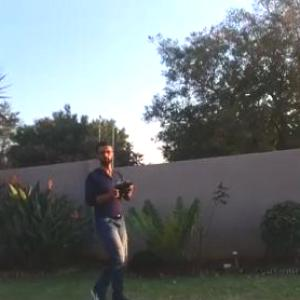follow: (80, 134, 143, 299)
